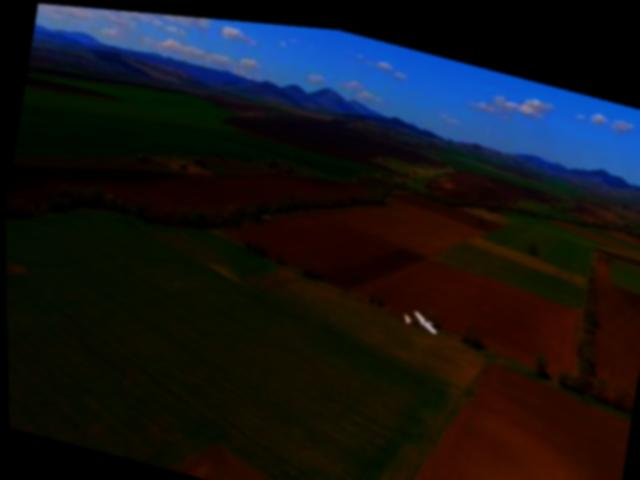uav: (395, 288, 444, 336)
